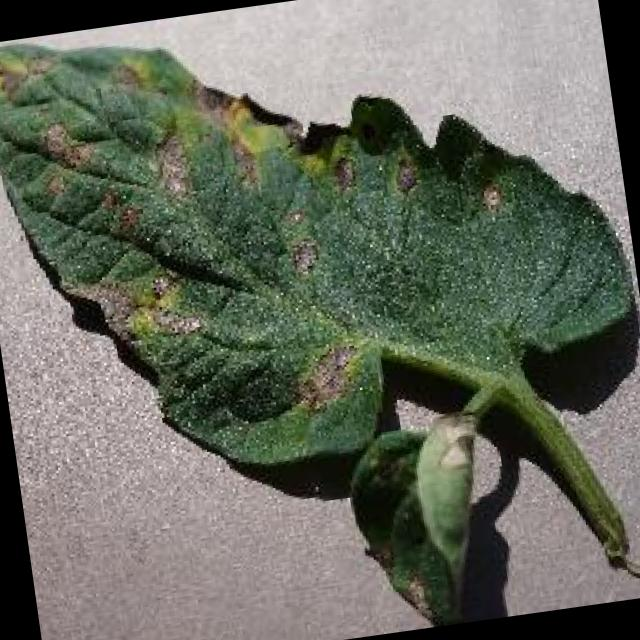Tomato_Early_Blight: (0, 0, 557, 640)
